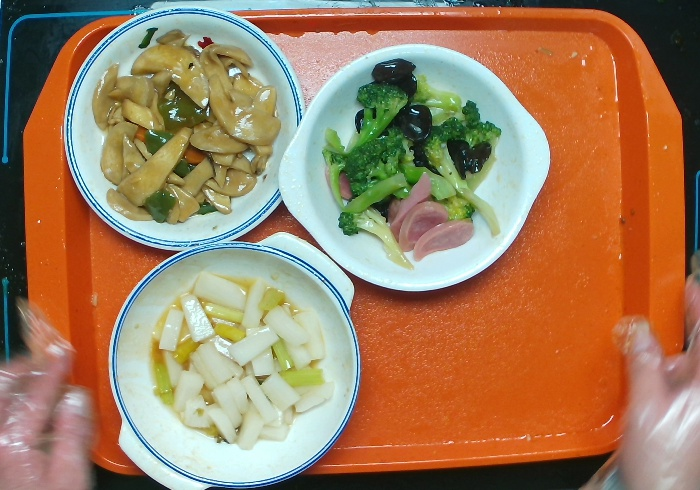HZYJPL-Dai_Er_Bai_Yuan_Wan: (276, 42, 553, 295)
HZYJPL-Lan_Bian_Dai_Er_Wan: (106, 232, 361, 490)
HZYJPL-Lan_Bian_Yuan_Die: (64, 3, 306, 251)
